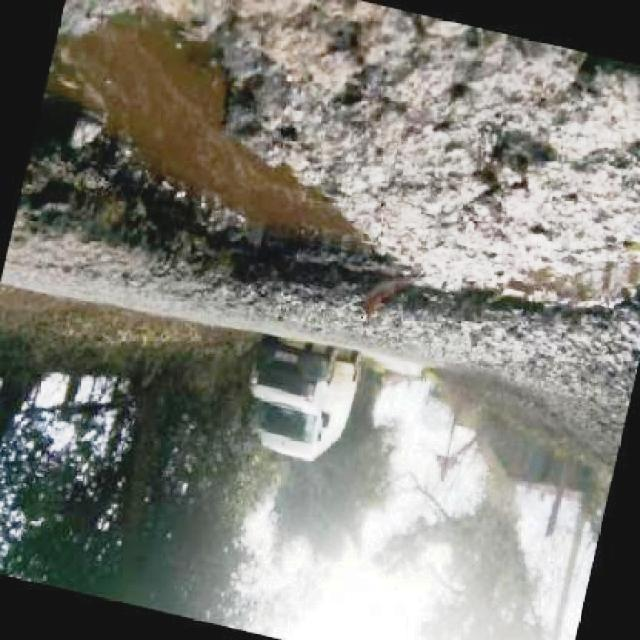pothole: (4, 0, 640, 403)
